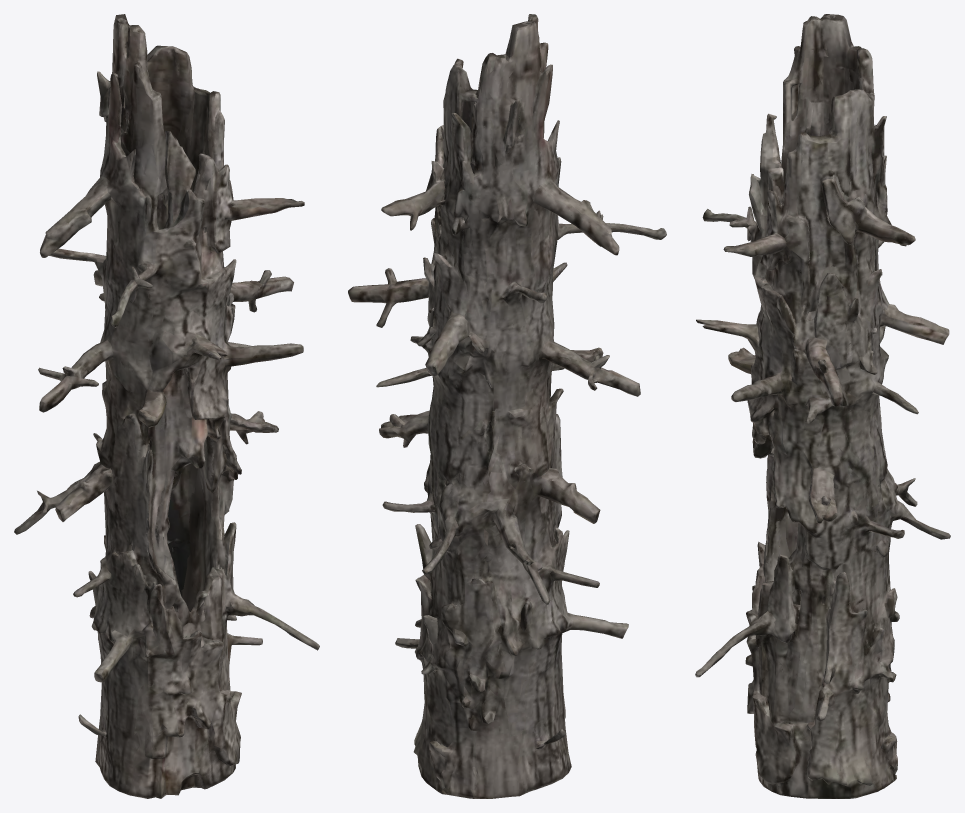
File: dead-snag-v13-lod.glb
The picture shows the model from 3 angles, left to right: view 1: azimuth 30°, elevation 25°; view 2: azimuth 150°, elevation 25°; view 3: azimuth 270°, elevation 25°; orthographic projection. The views are drawn at different scales.
Parts seen in each view (by area): view 1: geometry_0; view 2: geometry_0; view 3: geometry_0.
Boxes of the visible parts, x1,y1,x2,y2 form: geometry_0: (14,14,319,798); geometry_0: (348,14,666,798); geometry_0: (695,14,950,798).
Bounding box in the file's own units: 0.8271 × 2.2 × 0.6884.
1 material, 1 textured.
